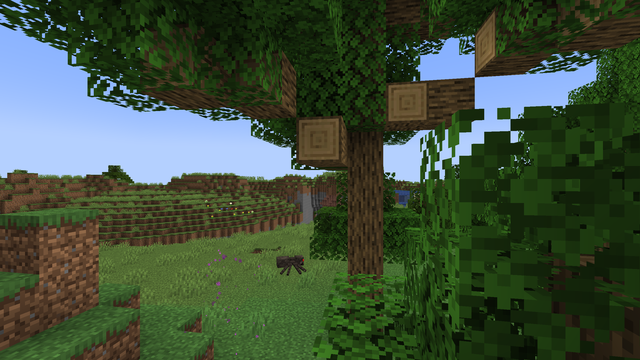araignees: (277, 251, 304, 273)
